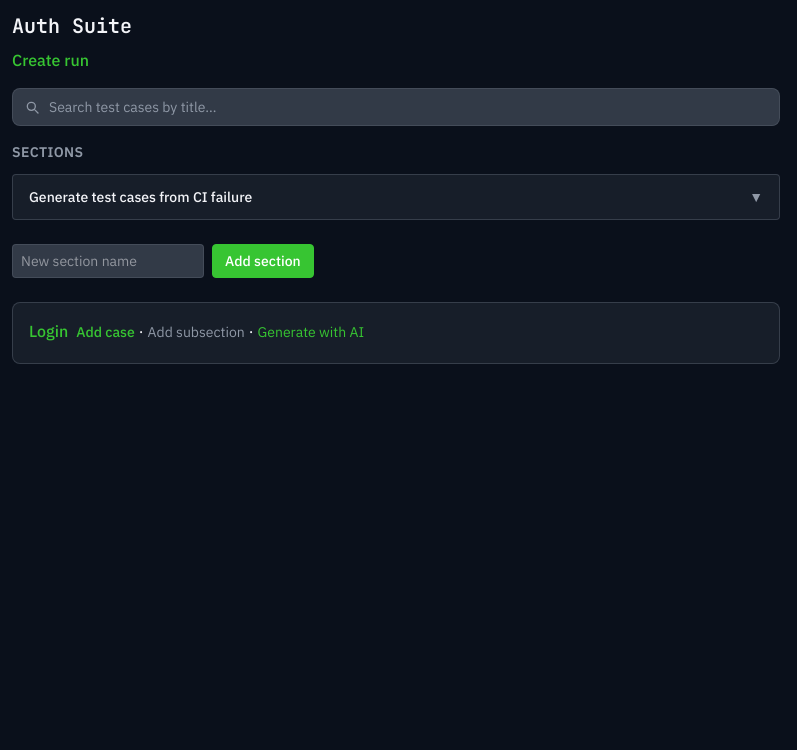
Scenario: SuiteView — CI failure panel › CI failure panel expands on toggle click
Expected: the heading "Auth Suite" is shown, [12,13,132,39]
What coordinates should you click on to do the following:
click the text "Generate test cases from CI failure"
I would click on:
 (141, 197)
Its box is [29,187,252,207].
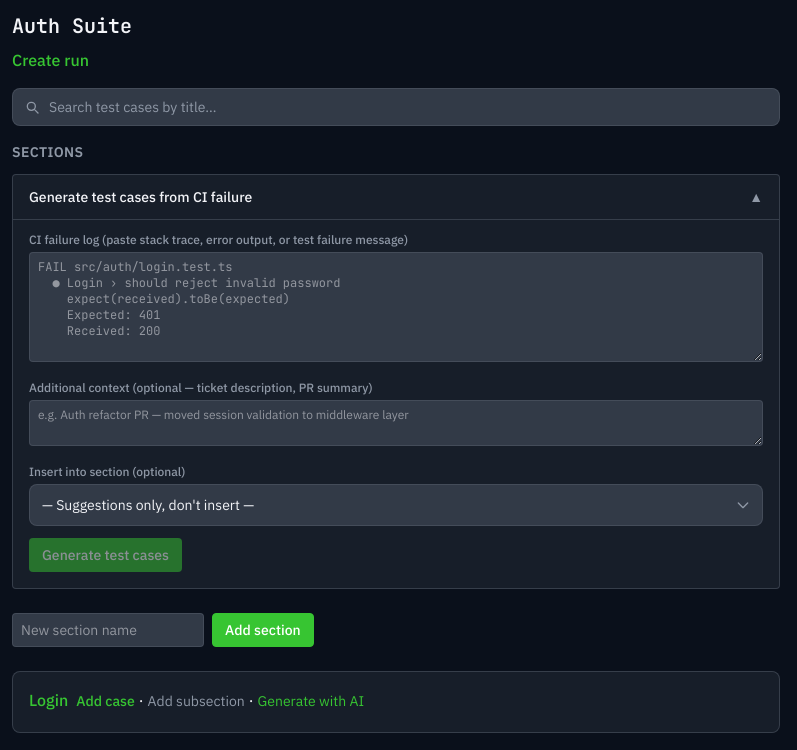
Result: the text box with placeholder "FAIL src" is shown at [29,252,763,362]
